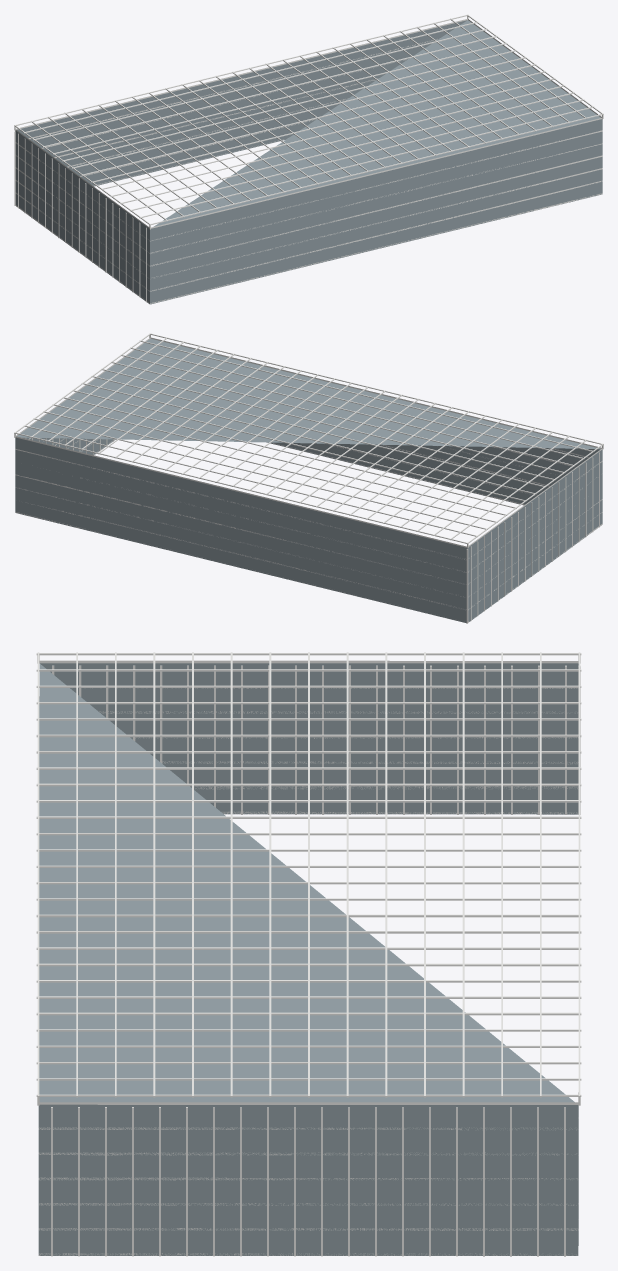
The model's file is info.glb.
The picture shows the model from 3 angles, top to bottom: view 1: azimuth 30°, elevation 25°; view 2: azimuth 150°, elevation 25°; view 3: azimuth 270°, elevation 25°; orthographic projection. The views are drawn at different scales.
Visible parts, largest first — view 1: info; view 2: info; view 3: info.
Part boxes in pixels (x1,y1,x2,y2): info: (14, 14, 603, 304); info: (14, 333, 603, 623); info: (36, 652, 581, 1256).
Size of the model in its own units: 166 by 28.15 by 86.3.
